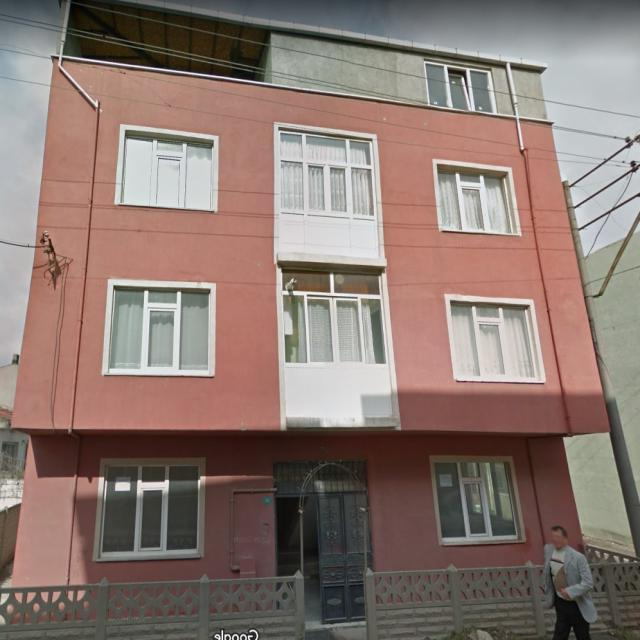Building: (10, 0, 612, 623)
